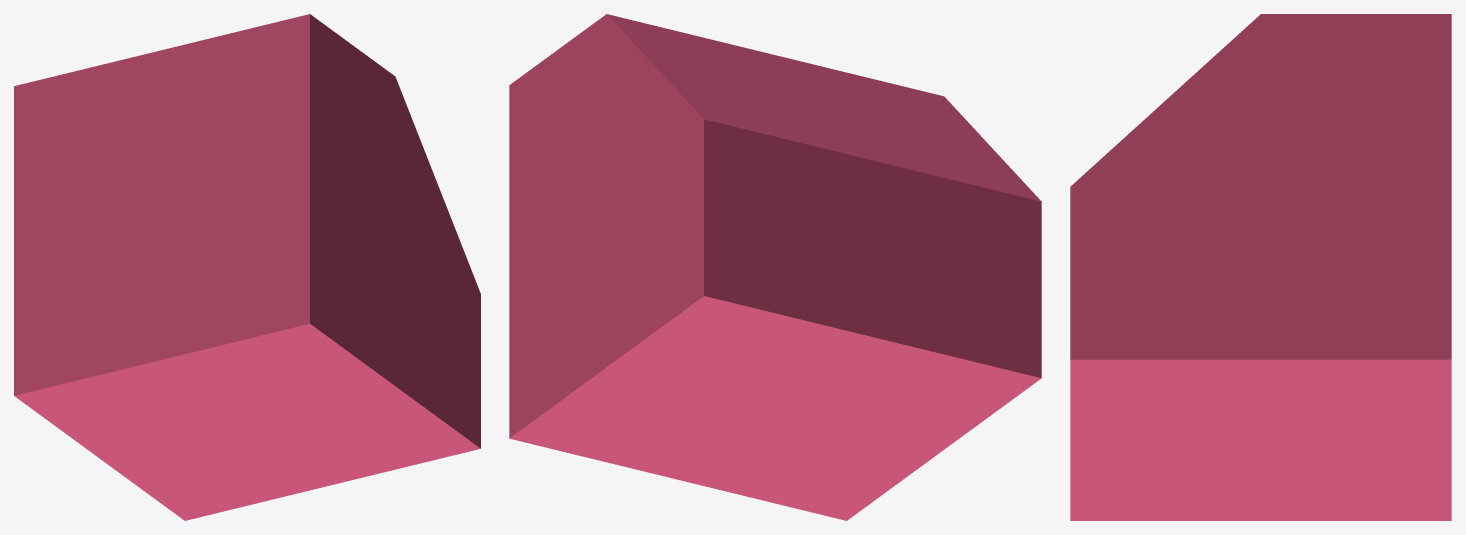
File: r3c6_border_pink.gltf
The picture shows the model from 3 angles, left to right: view 1: azimuth 30°, elevation 25°; view 2: azimuth 150°, elevation 25°; view 3: azimuth 270°, elevation 25°; orthographic projection. The views are drawn at different scales.
Parts seen in each view (by area): view 1: r3c6_border_pink; view 2: r3c6_border_pink; view 3: r3c6_border_pink.
Part boxes in pixels (x1,y1,x2,y2): r3c6_border_pink: (14,14,480,520); r3c6_border_pink: (509,14,1041,520); r3c6_border_pink: (1070,14,1451,520).
Size of the model in its own units: 2.1 by 2.1 by 2.1.
Materials: 1 (1 with a texture image).
